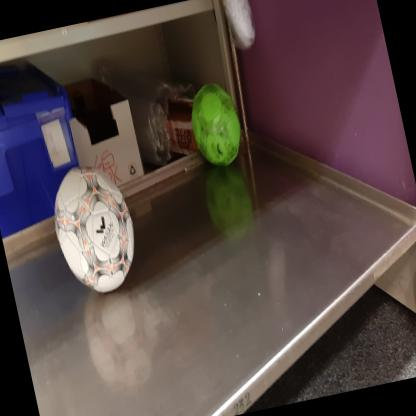ball: (43, 157, 147, 302), (183, 77, 248, 172)
